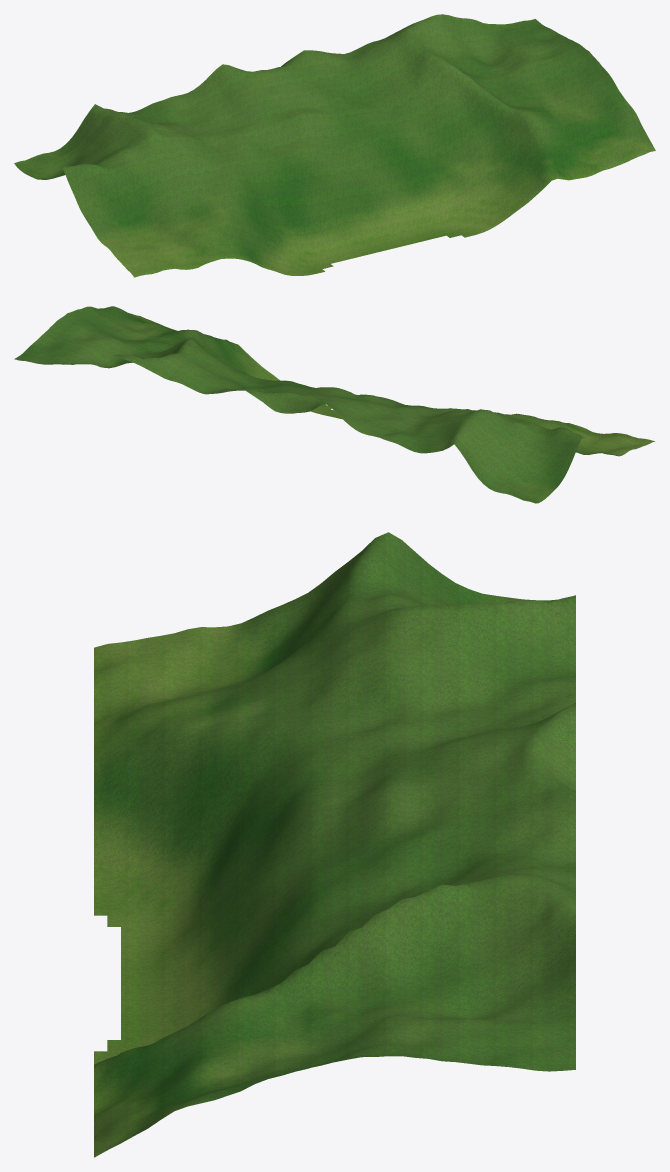
File: terrain-north.glb
3 renders of one model, top to bottom at view 1: azimuth 30°, elevation 25°; view 2: azimuth 150°, elevation 25°; view 3: azimuth 270°, elevation 25°, orthographic. The views are drawn at different scales.
Parts seen in each view (by area): view 1: terrain_north_mesh; view 2: terrain_north_mesh; view 3: terrain_north_mesh.
Boxes of the visible parts, x1,y1,x2,y2 form: terrain_north_mesh: [14, 14, 655, 277]; terrain_north_mesh: [14, 306, 654, 503]; terrain_north_mesh: [94, 532, 575, 1157].
Bounding box in the file's own units: 360 × 75.81 × 144.
1 material, 1 textured.
